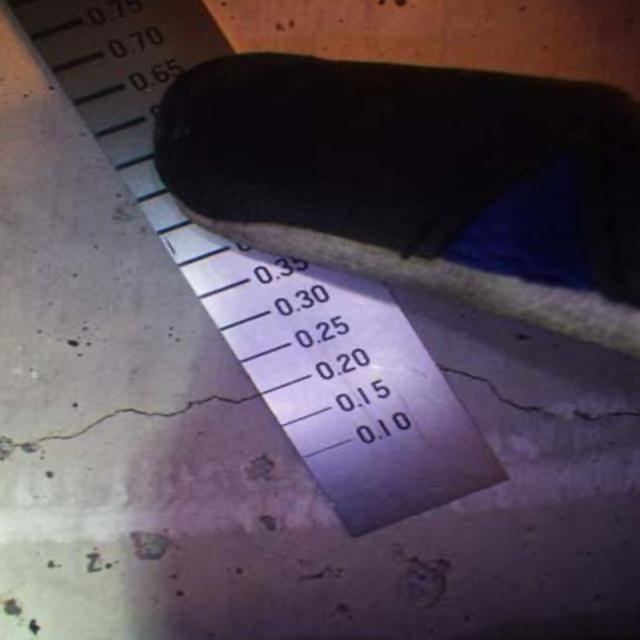crack: (454, 341, 639, 443), (7, 383, 263, 453)
